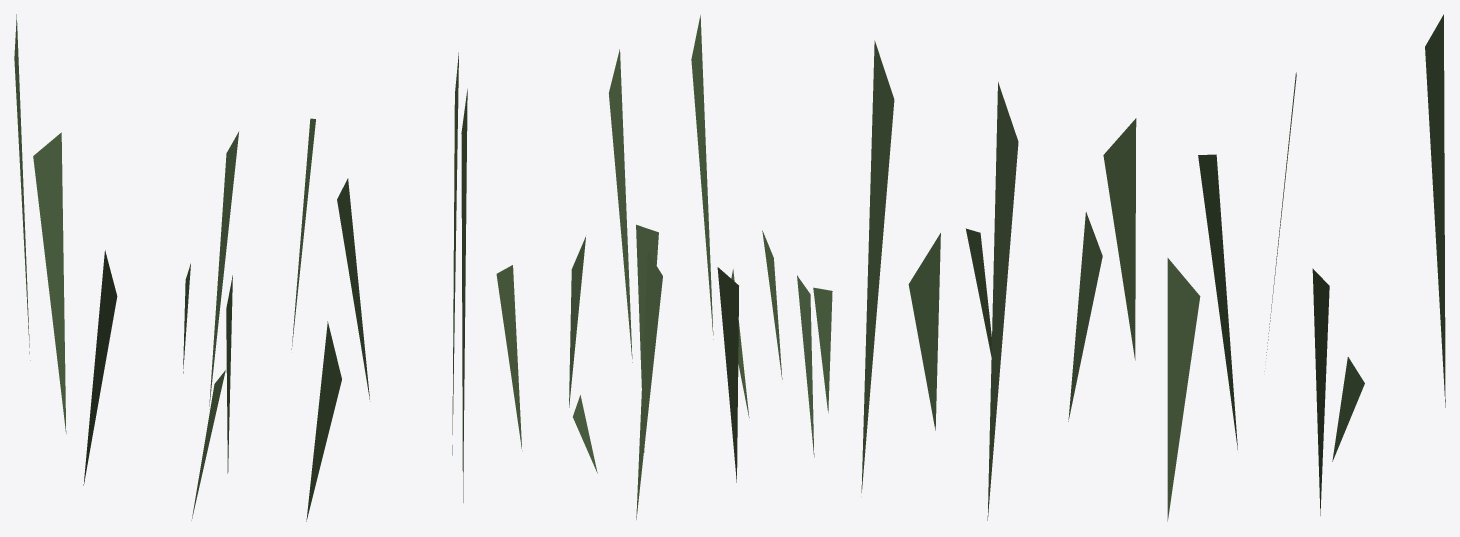
The model's file is Grass_Short.lod3.glb.
The picture shows the model from 3 angles, left to right: view 1: azimuth 30°, elevation 25°; view 2: azimuth 150°, elevation 25°; view 3: azimuth 270°, elevation 25°; orthographic projection. The views are drawn at different scales.
Parts seen in each view (by area): view 1: Grass_Short; view 2: Grass_Short; view 3: Grass_Short.
Part boxes in pixels (x1,y1,x2,y2): Grass_Short: [14, 14, 467, 521]; Grass_Short: [496, 15, 832, 519]; Grass_Short: [861, 14, 1445, 521].
Bounding box in the file's own units: 0.2835 × 0.3564 × 0.4069.
